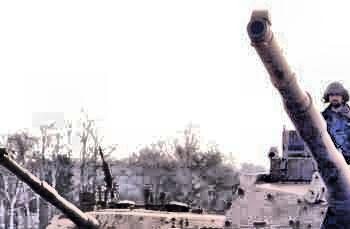tanks: (225, 13, 350, 229), (1, 150, 225, 229), (176, 214, 215, 229), (158, 220, 168, 229)
